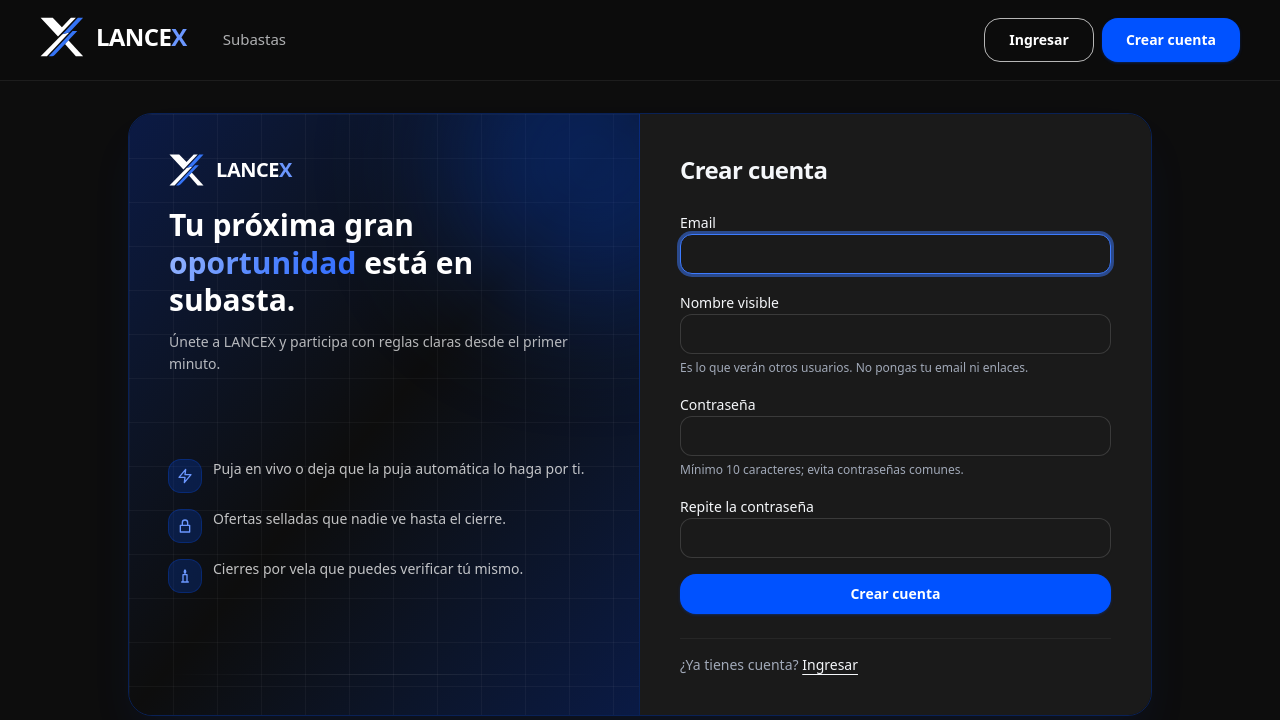
Test: RegisterPage › valida en el cliente: email, nombre corto, contraseña corta y confirmación
Type "no" into the field labelled "Email" at (896, 254), box x1=680 y1=234 x2=1111 y2=274
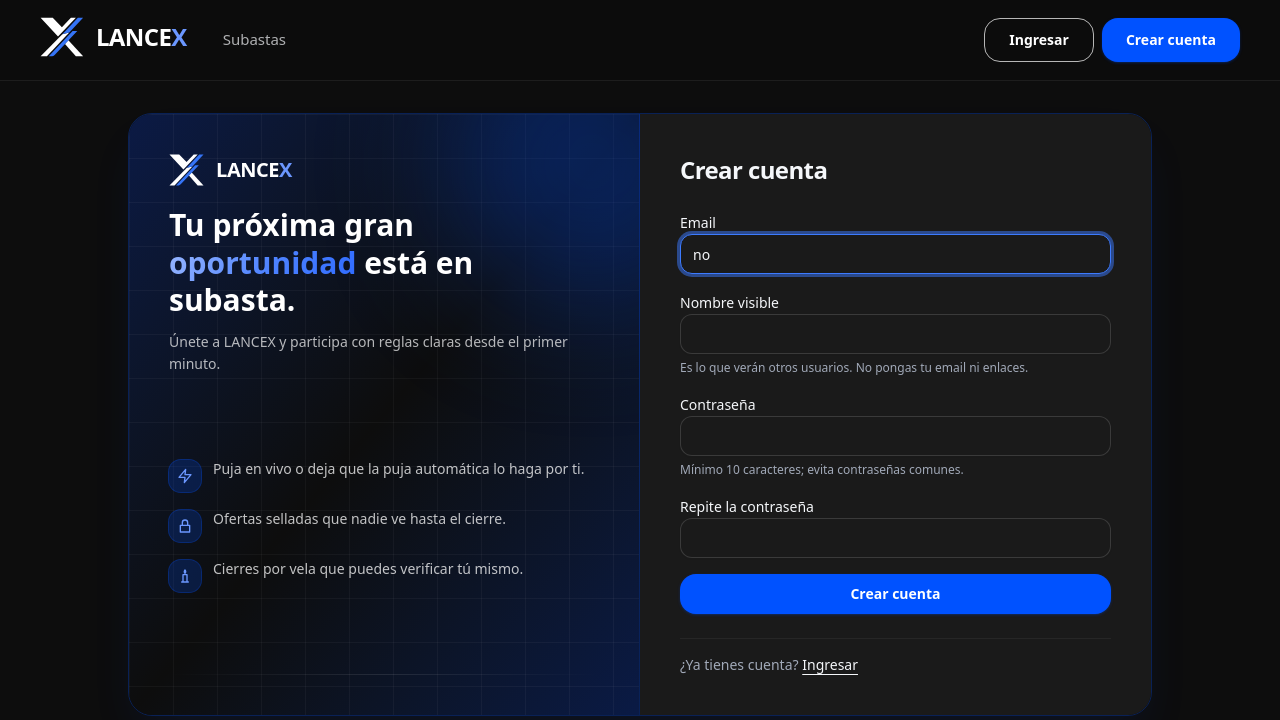
Type "X" into the field labelled "Nombre visible" at (896, 334), box x1=680 y1=314 x2=1111 y2=354
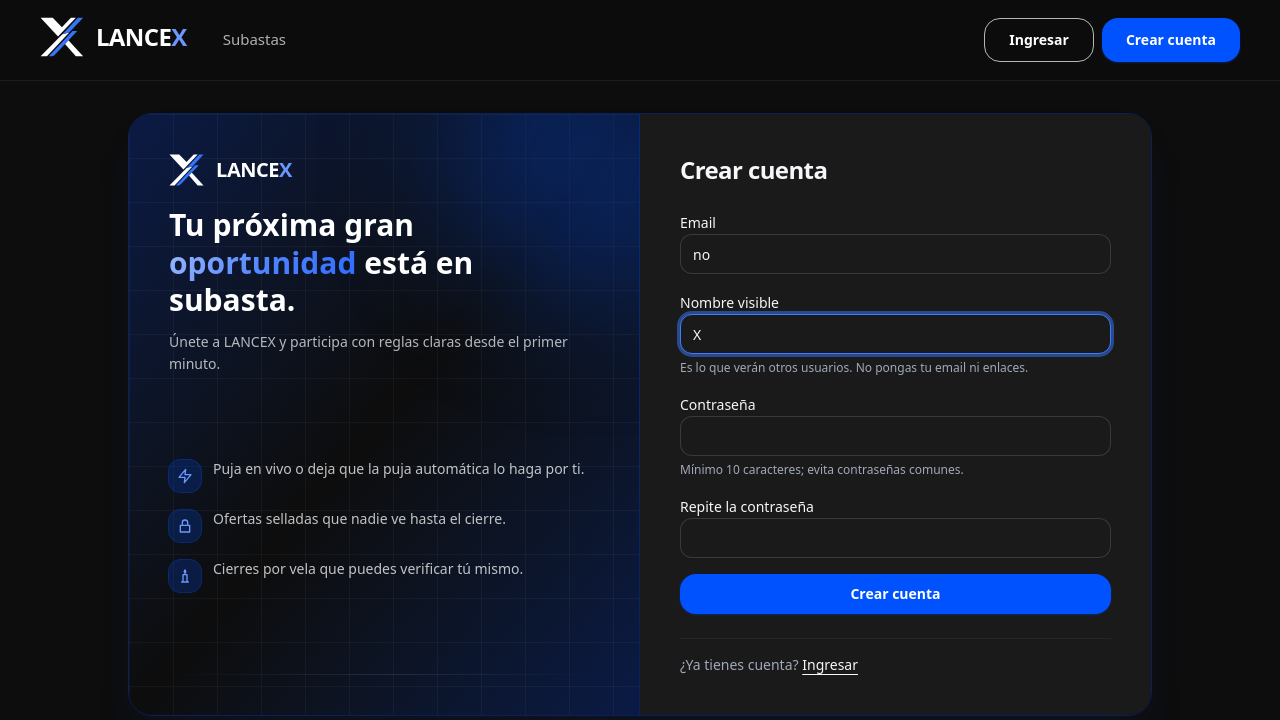
Type "corta" into the password field labelled "Contraseña" at (896, 436), box x1=680 y1=416 x2=1111 y2=456
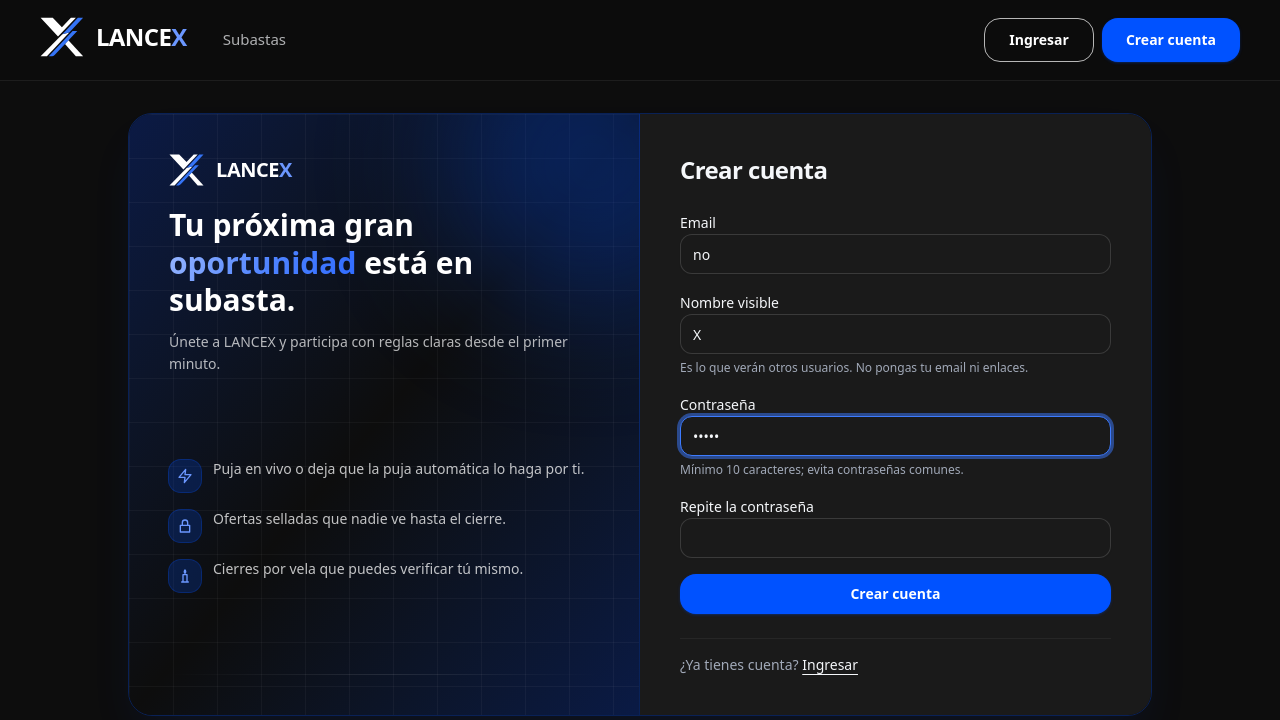
Type "otra" into the password field labelled "Repite la contraseña" at (896, 538), box x1=680 y1=518 x2=1111 y2=558
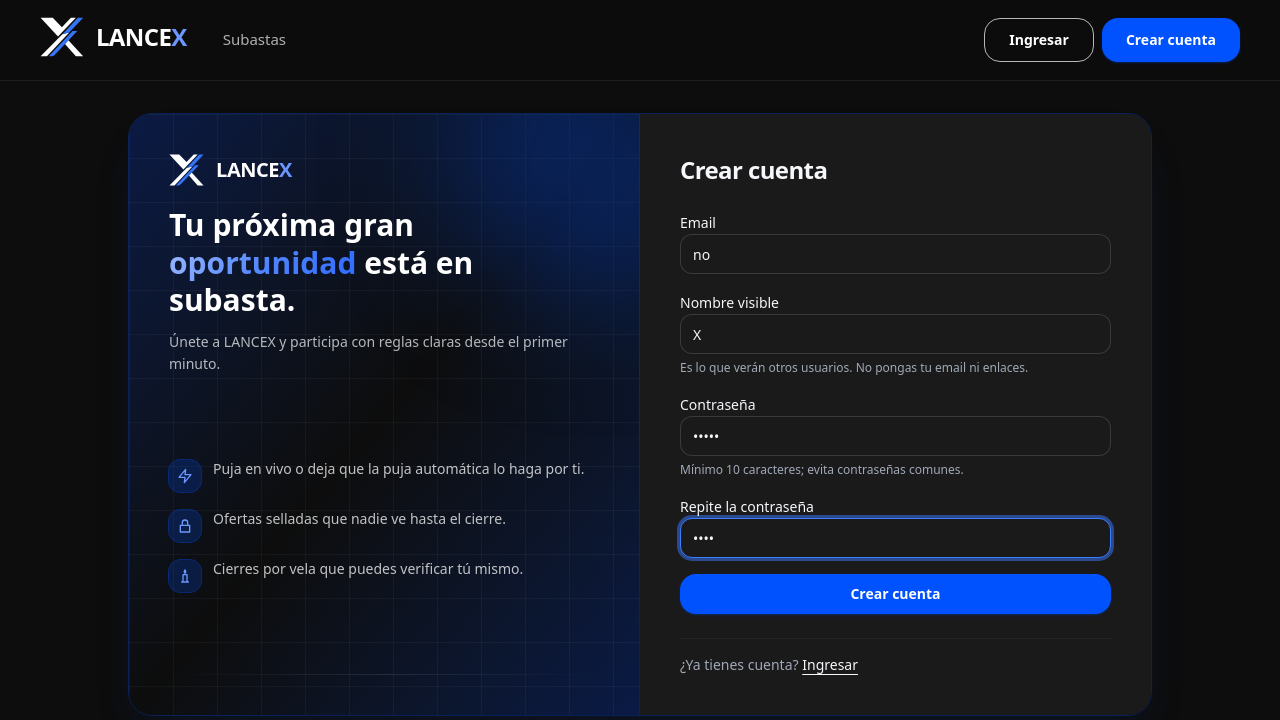
Click the button "Crear cuenta" at (896, 594), box x1=680 y1=574 x2=1111 y2=614
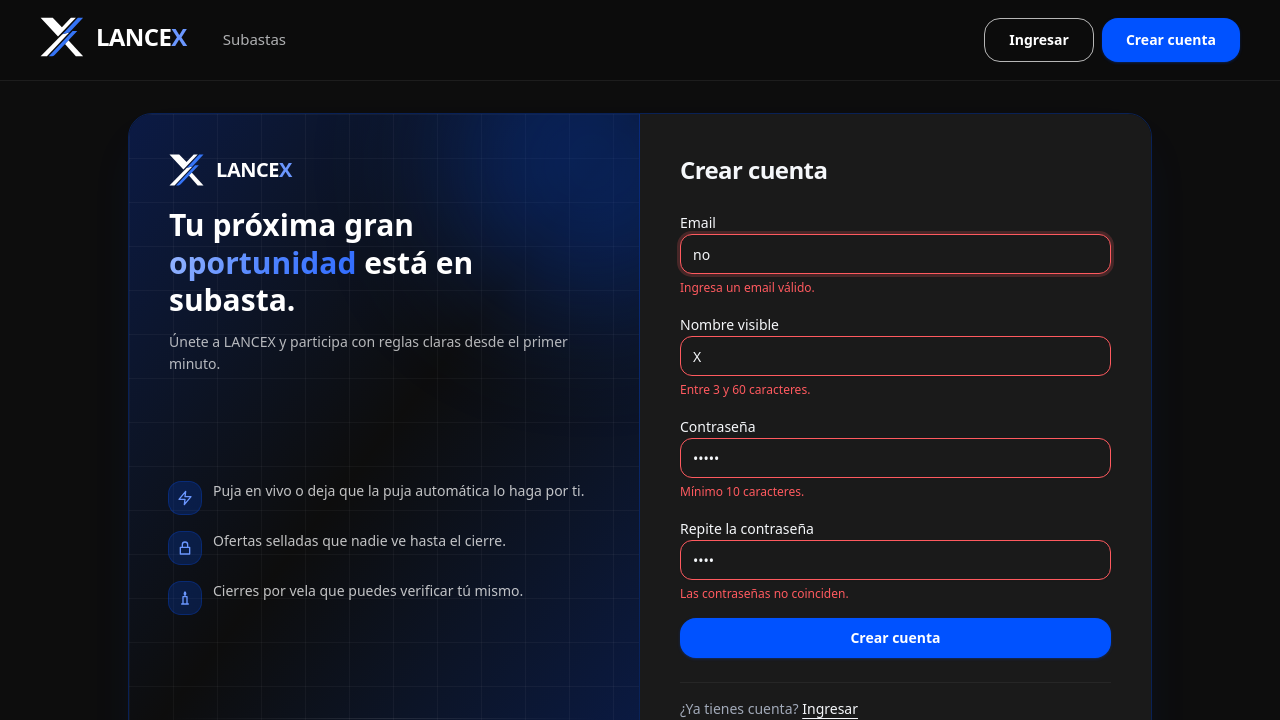
Now the text "Ingresa un email válido." is shown, box x1=680 y1=279 x2=815 y2=296
Now the text "Entre 3 y 60 caracteres." is shown, box x1=680 y1=381 x2=810 y2=398
Now the text "Mínimo 10 caracteres." is shown, box x1=680 y1=483 x2=804 y2=500
